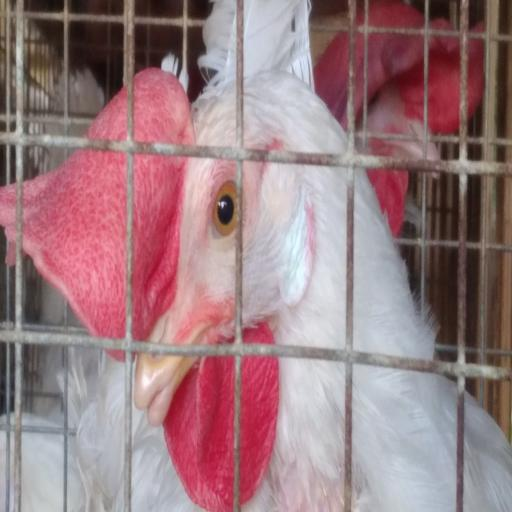healthy: (111, 98, 324, 371)
